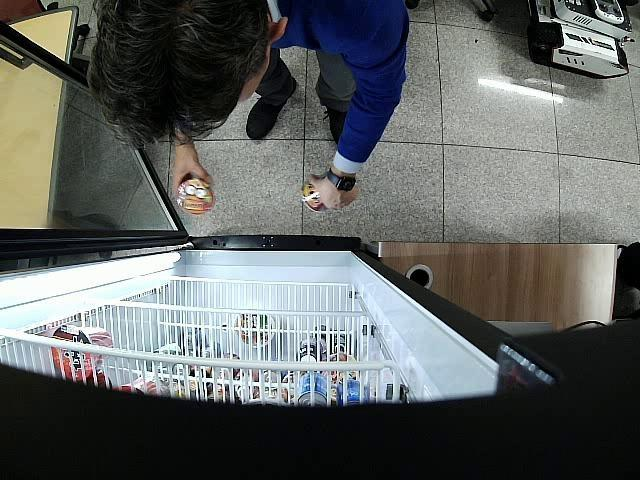06_nuguri_S: (177, 179, 216, 215), (301, 183, 327, 212)
